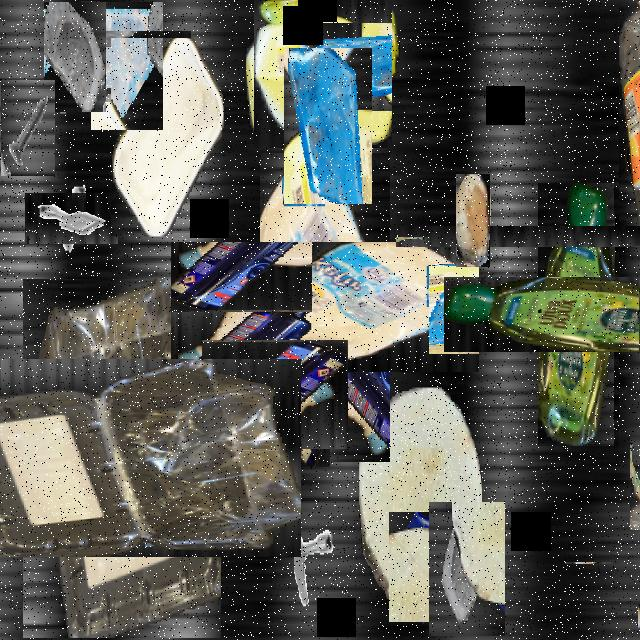glass: (284, 48, 372, 204), (120, 441, 226, 547), (429, 502, 505, 636), (77, 16, 177, 116), (389, 512, 451, 622), (44, 2, 106, 112)
metal: (294, 526, 354, 633), (36, 182, 108, 255), (1, 80, 55, 176)
plastic: (0, 319, 261, 597), (215, 198, 435, 417), (507, 113, 640, 359), (491, 229, 640, 399), (111, 38, 225, 236), (250, 0, 396, 144), (211, 331, 339, 458), (568, 253, 640, 382), (601, 525, 640, 601)
wood: (359, 388, 481, 604), (456, 174, 490, 267), (630, 437, 640, 530)
